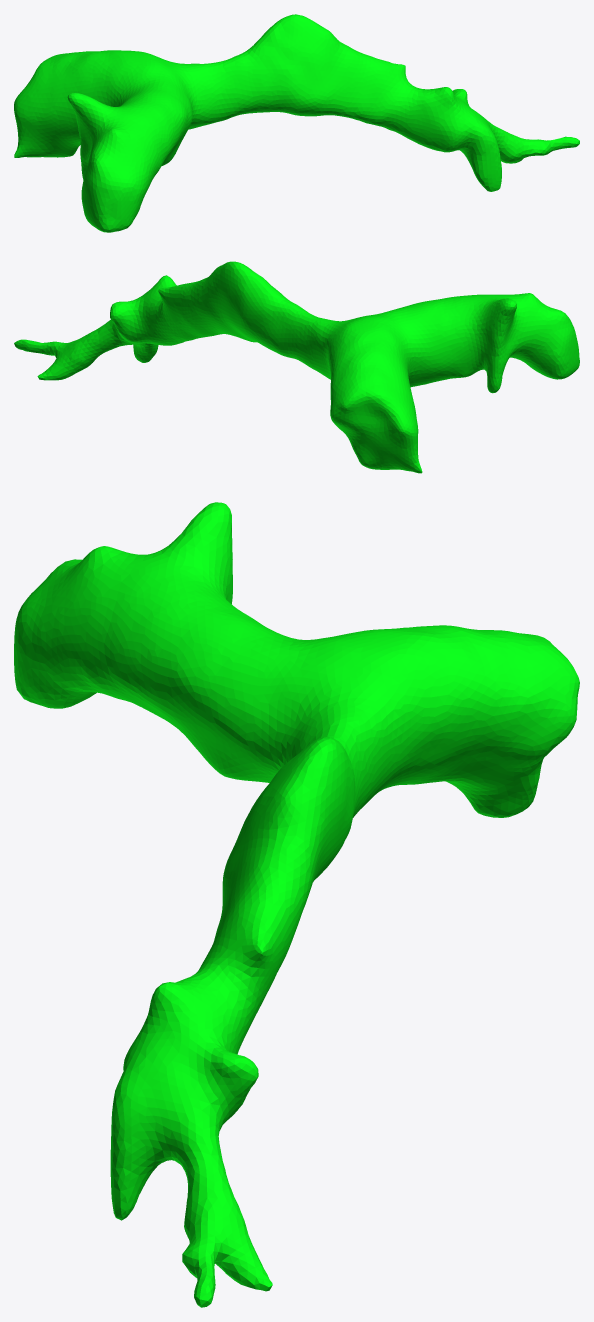
Rendered from fontanPA.glb.
The picture shows the model from 3 angles, top to bottom: view 1: azimuth 30°, elevation 25°; view 2: azimuth 150°, elevation 25°; view 3: azimuth 270°, elevation 25°; orthographic projection. The views are drawn at different scales.
Parts seen in each view (by area): view 1: 2018001 Pulmonary Artery; view 2: 2018001 Pulmonary Artery; view 3: 2018001 Pulmonary Artery.
Part boxes in pixels (x1,y1,x2,y2): 2018001 Pulmonary Artery: [14, 14, 579, 232]; 2018001 Pulmonary Artery: [14, 261, 579, 473]; 2018001 Pulmonary Artery: [14, 502, 579, 1307].
Bounding box in the file's own units: 143 × 47.48 × 68.86.
